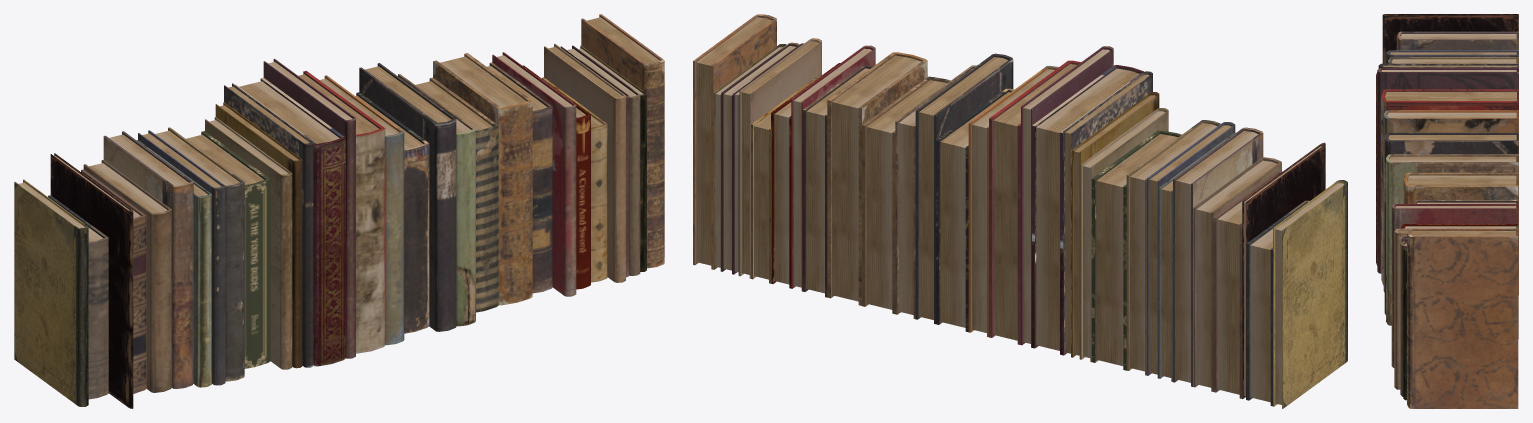
Rendered from SM_Book_Old.048.fbx.
3 views of the same model, side by side, from view 1: azimuth 30°, elevation 25°; view 2: azimuth 150°, elevation 25°; view 3: azimuth 270°, elevation 25° (orthographic). The views are drawn at different scales.
Visible parts, largest first — view 1: SM_Book_Old.048; view 2: SM_Book_Old.048; view 3: SM_Book_Old.048.
Part boxes in pixels (box(x1,y1,x2,y2)): SM_Book_Old.048: box(14, 14, 664, 408); SM_Book_Old.048: box(693, 14, 1347, 408); SM_Book_Old.048: box(1376, 14, 1518, 408).
Size of the model in its own units: 0.974 by 0.3765 by 0.2421.
